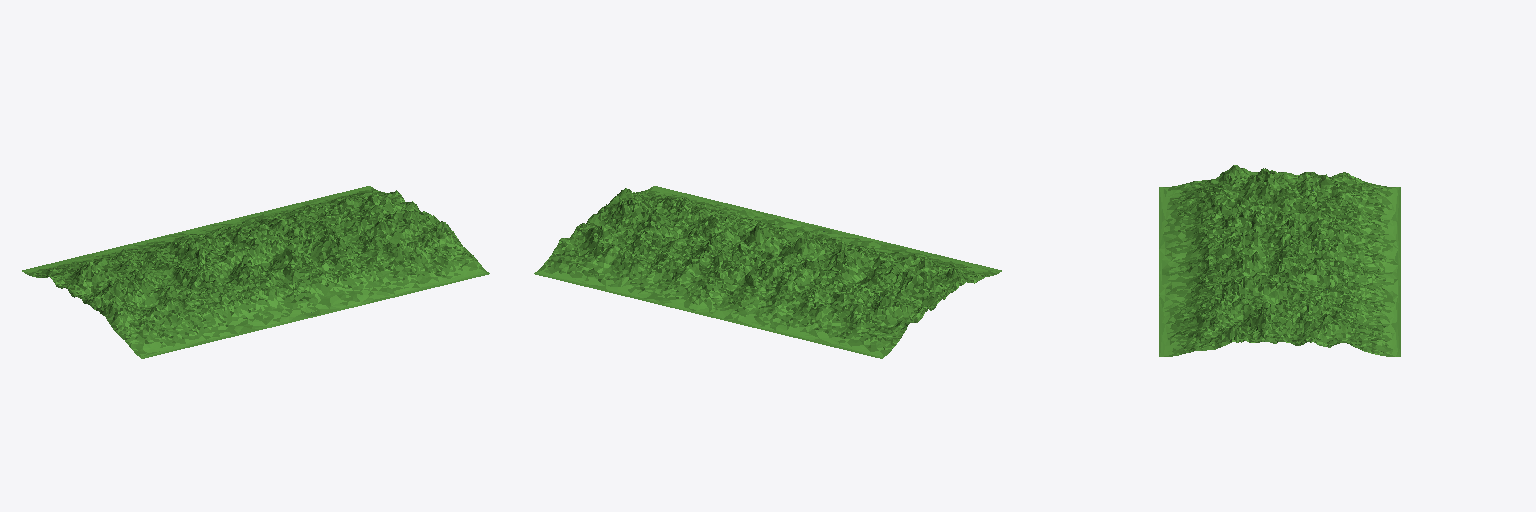
The picture shows the model from 3 angles: view 1: azimuth 30°, elevation 25°; view 2: azimuth 150°, elevation 25°; view 3: azimuth 270°, elevation 25°; orthographic projection.
Parts seen in each view (by area): view 1: Landscape.001; view 2: Landscape.001; view 3: Landscape.001.
Part boxes in pixels (bbox=[...]): Landscape.001: bbox=[22, 186, 489, 358]; Landscape.001: bbox=[534, 186, 1001, 358]; Landscape.001: bbox=[1159, 165, 1400, 356].
Size of the model in its own units: 8000 by 716 by 4800.
1 materials, 1 textured.